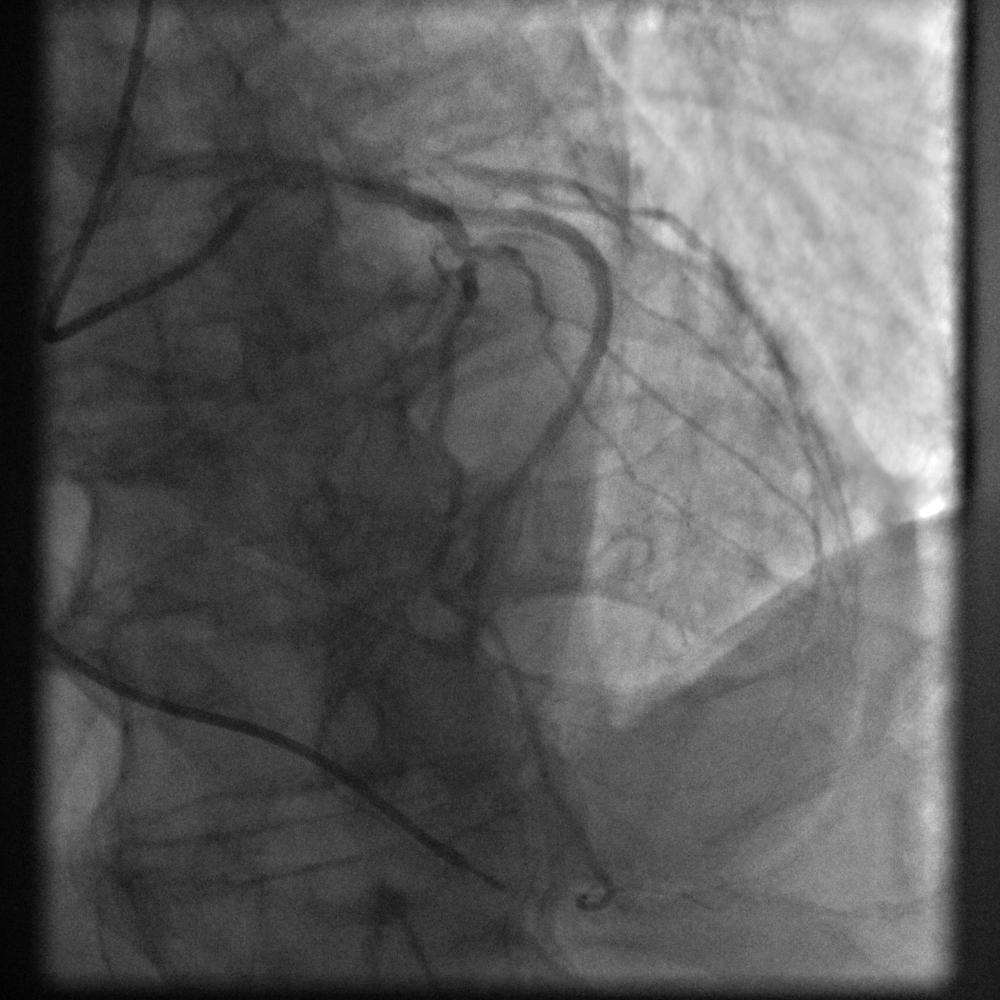Stenosis: (438, 225, 502, 281)
